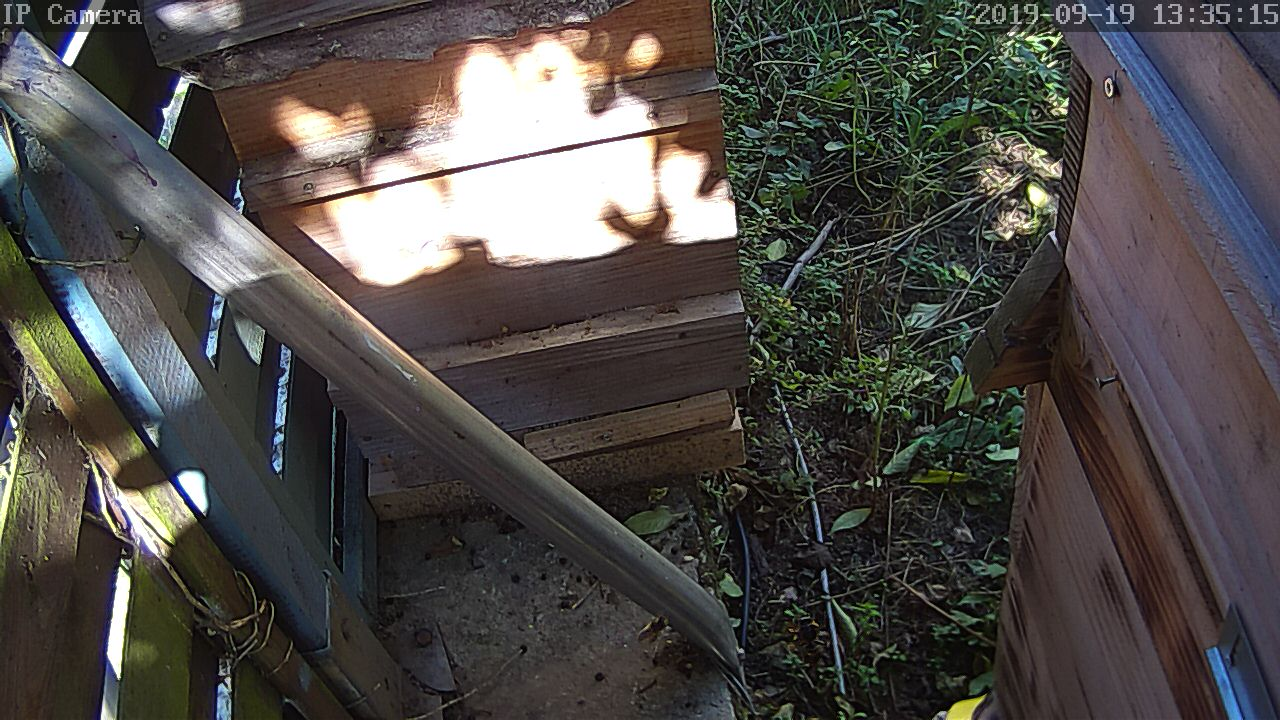hornet: (776, 593, 822, 668)
